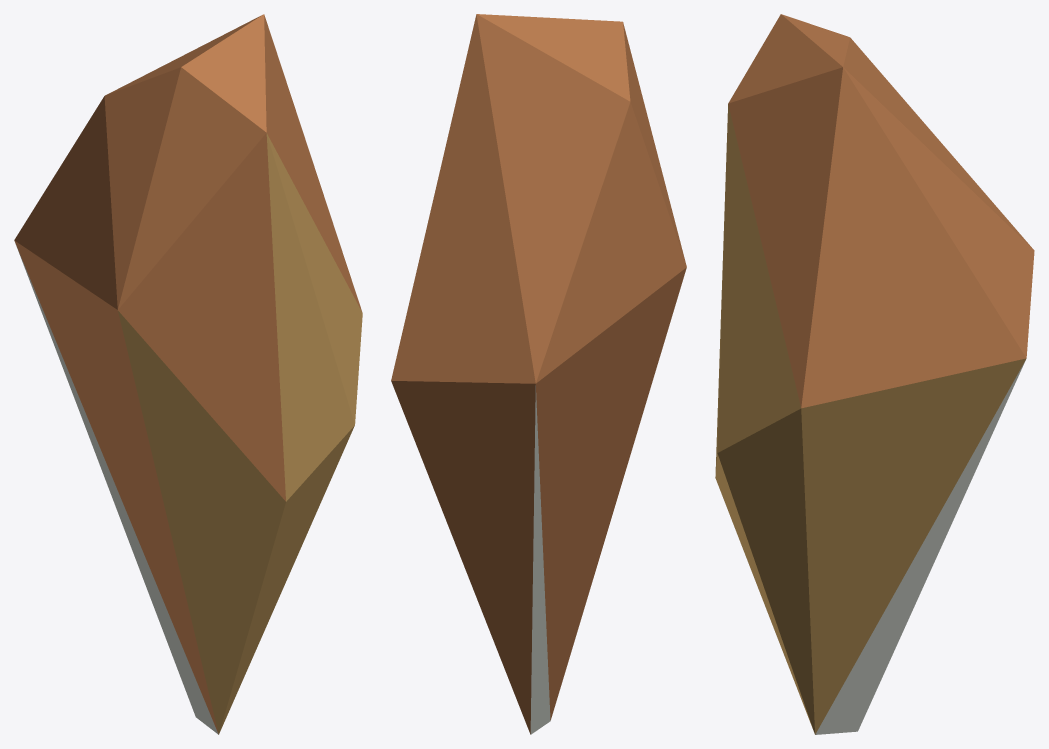
File: BirchTree_Autumn_3.lod4.glb
The picture shows the model from 3 angles, left to right: view 1: azimuth 30°, elevation 25°; view 2: azimuth 150°, elevation 25°; view 3: azimuth 270°, elevation 25°; orthographic projection.
Parts seen in each view (by area): view 1: BirchTree_Autumn_3; view 2: BirchTree_Autumn_3; view 3: BirchTree_Autumn_3.
Part boxes in pixels (x1=…): BirchTree_Autumn_3: x1=14, y1=14, x2=362, y2=734; BirchTree_Autumn_3: x1=391, y1=14, x2=686, y2=734; BirchTree_Autumn_3: x1=715, y1=14, x2=1034, y2=734.
Size of the model in its own units: 1.57 by 4.1 by 1.7.
